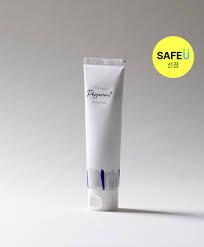toothpaste: (77, 52, 129, 213)
